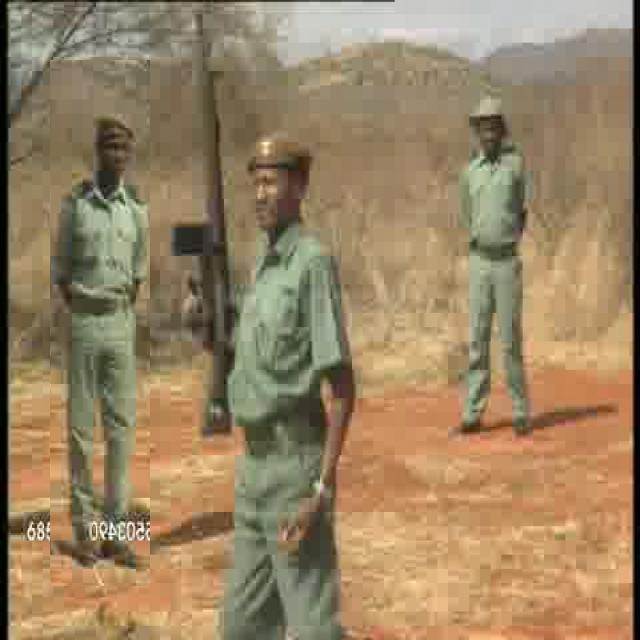poacher: (218, 130, 358, 640), (430, 71, 592, 453), (51, 61, 150, 586)
weapon: (172, 1, 234, 442)
